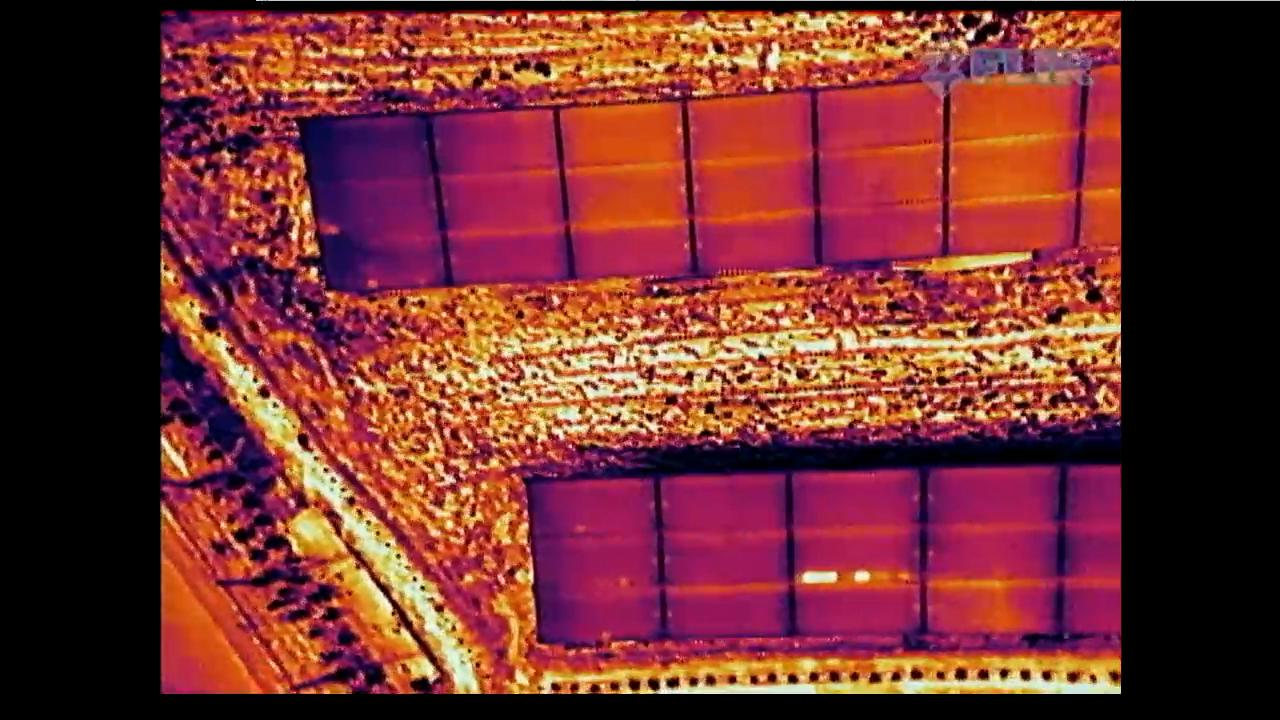hotspot: (789, 479, 920, 634)
